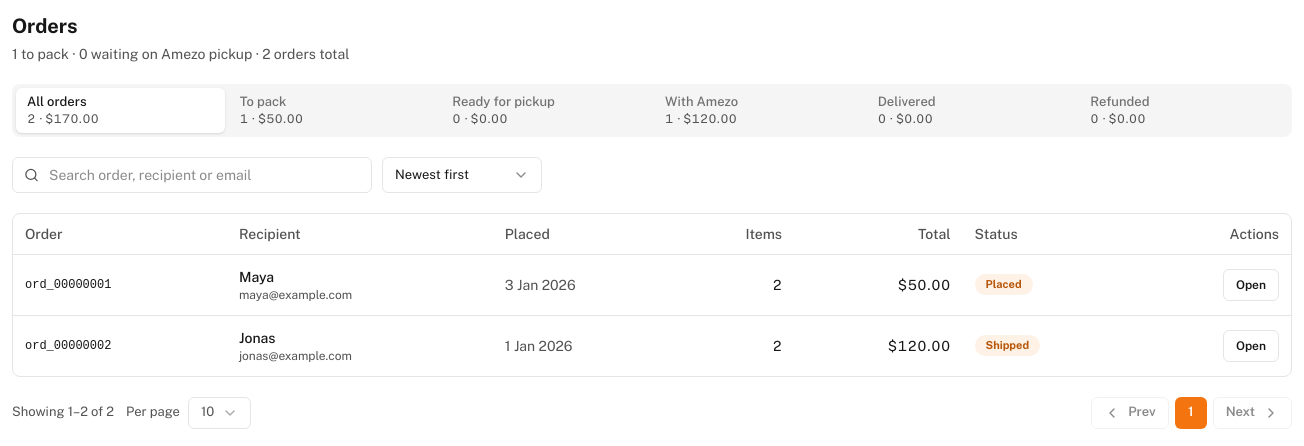
Test: SellerOrders › searches by recipient
Expected: the text "Maya" is shown, [239,268,274,284]
Step 1. Type "jonas" into the search field named "Search orders" → (192, 175), box [12,157,372,193]
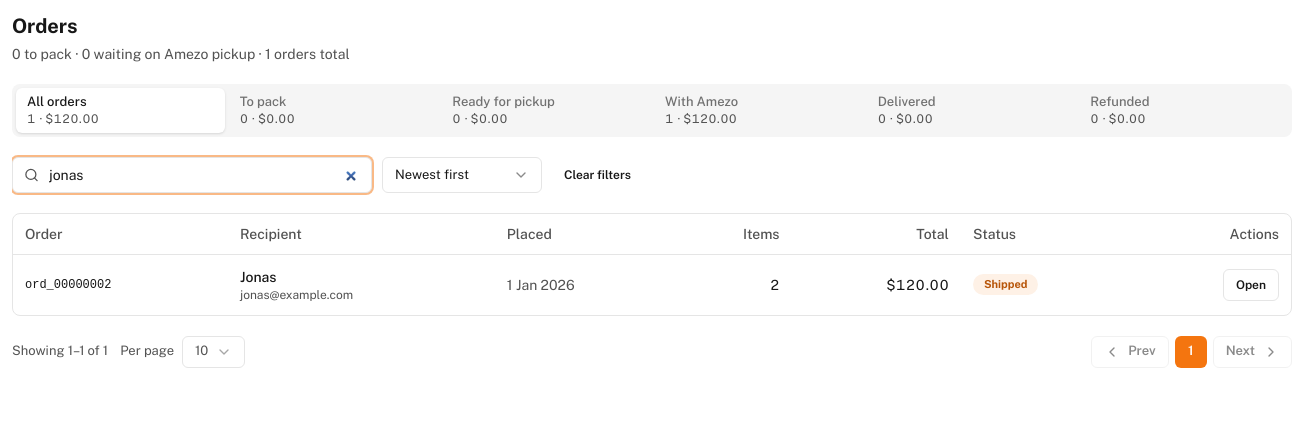
Expected: the text "Jonas" is shown, [240,268,276,284]
Now the text "Maya" is gone
